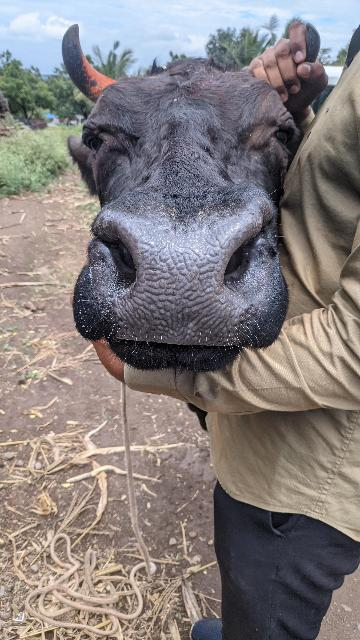Muzzle: (126, 215, 231, 339)
